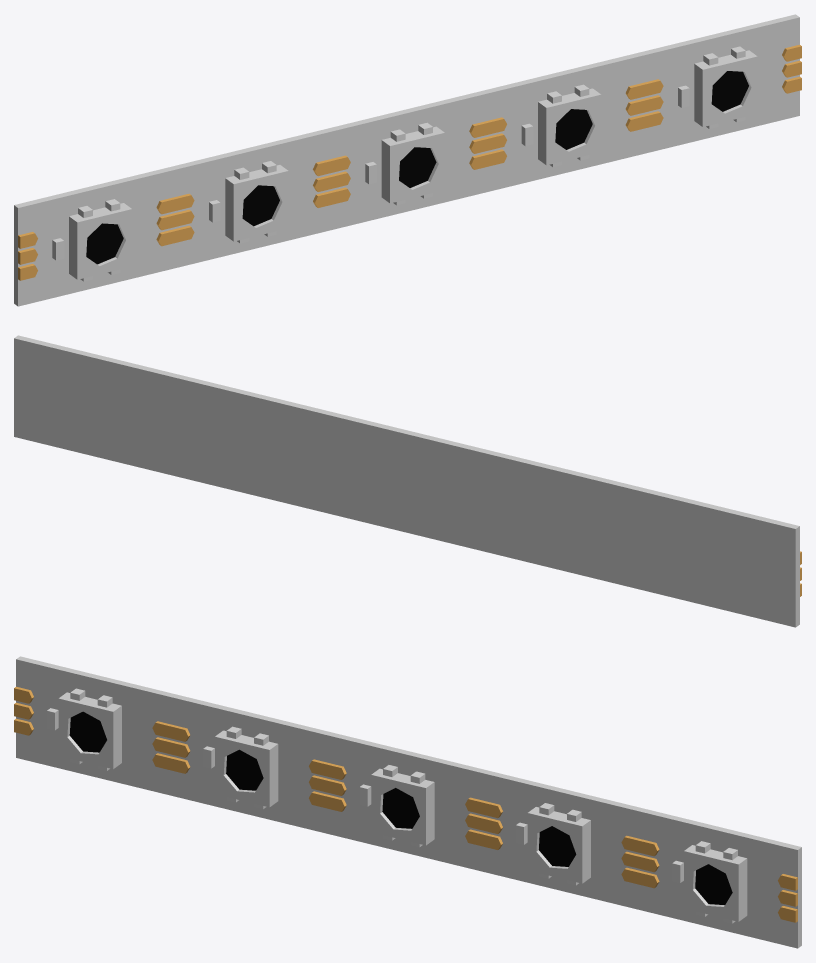
File: lightstrip.glb
3 views of the same model, one above another, from view 1: azimuth 30°, elevation 25°; view 2: azimuth 150°, elevation 25°; view 3: azimuth 330°, elevation 25° (orthographic).
Parts seen in each view (by area): view 1: Cube.001; view 2: Cube.001; view 3: Cube.001.
Boxes of the visible parts, left/top/right/bottom form: Cube.001: left=14, top=14, right=801, bottom=306; Cube.001: left=14, top=335, right=801, bottom=627; Cube.001: left=14, top=656, right=801, bottom=948.
Bounding box in the file's own units: 13.85 × 1.67 × 0.385.
